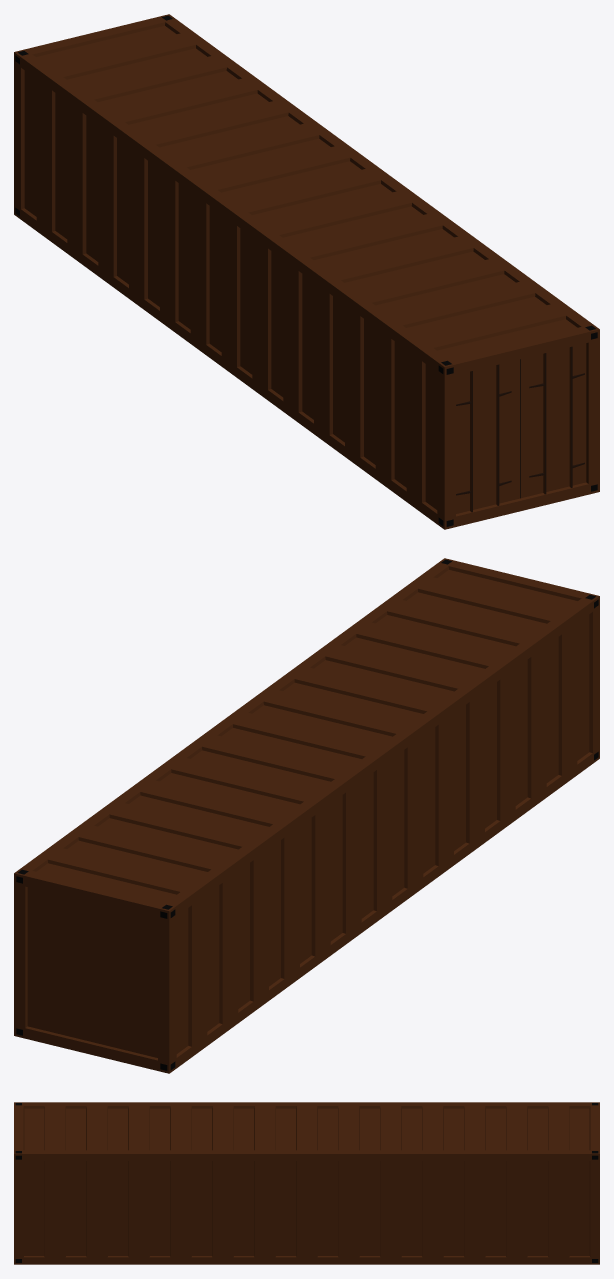
The model's file is SM_container_yellow.FBX.
3 renders of one model, top to bottom at view 1: azimuth 30°, elevation 25°; view 2: azimuth 150°, elevation 25°; view 3: azimuth 270°, elevation 25°, orthographic. The views are drawn at different scales.
Visible parts, largest first — view 1: sm_CONTAINER_yellow; view 2: sm_CONTAINER_yellow; view 3: sm_CONTAINER_yellow.
Boxes of the visible parts, x1,y1,x2,y2 form: sm_CONTAINER_yellow: (14, 14, 599, 529); sm_CONTAINER_yellow: (14, 558, 599, 1073); sm_CONTAINER_yellow: (14, 1102, 599, 1264).
Size of the model in its own units: 250 by 250 by 1200.
